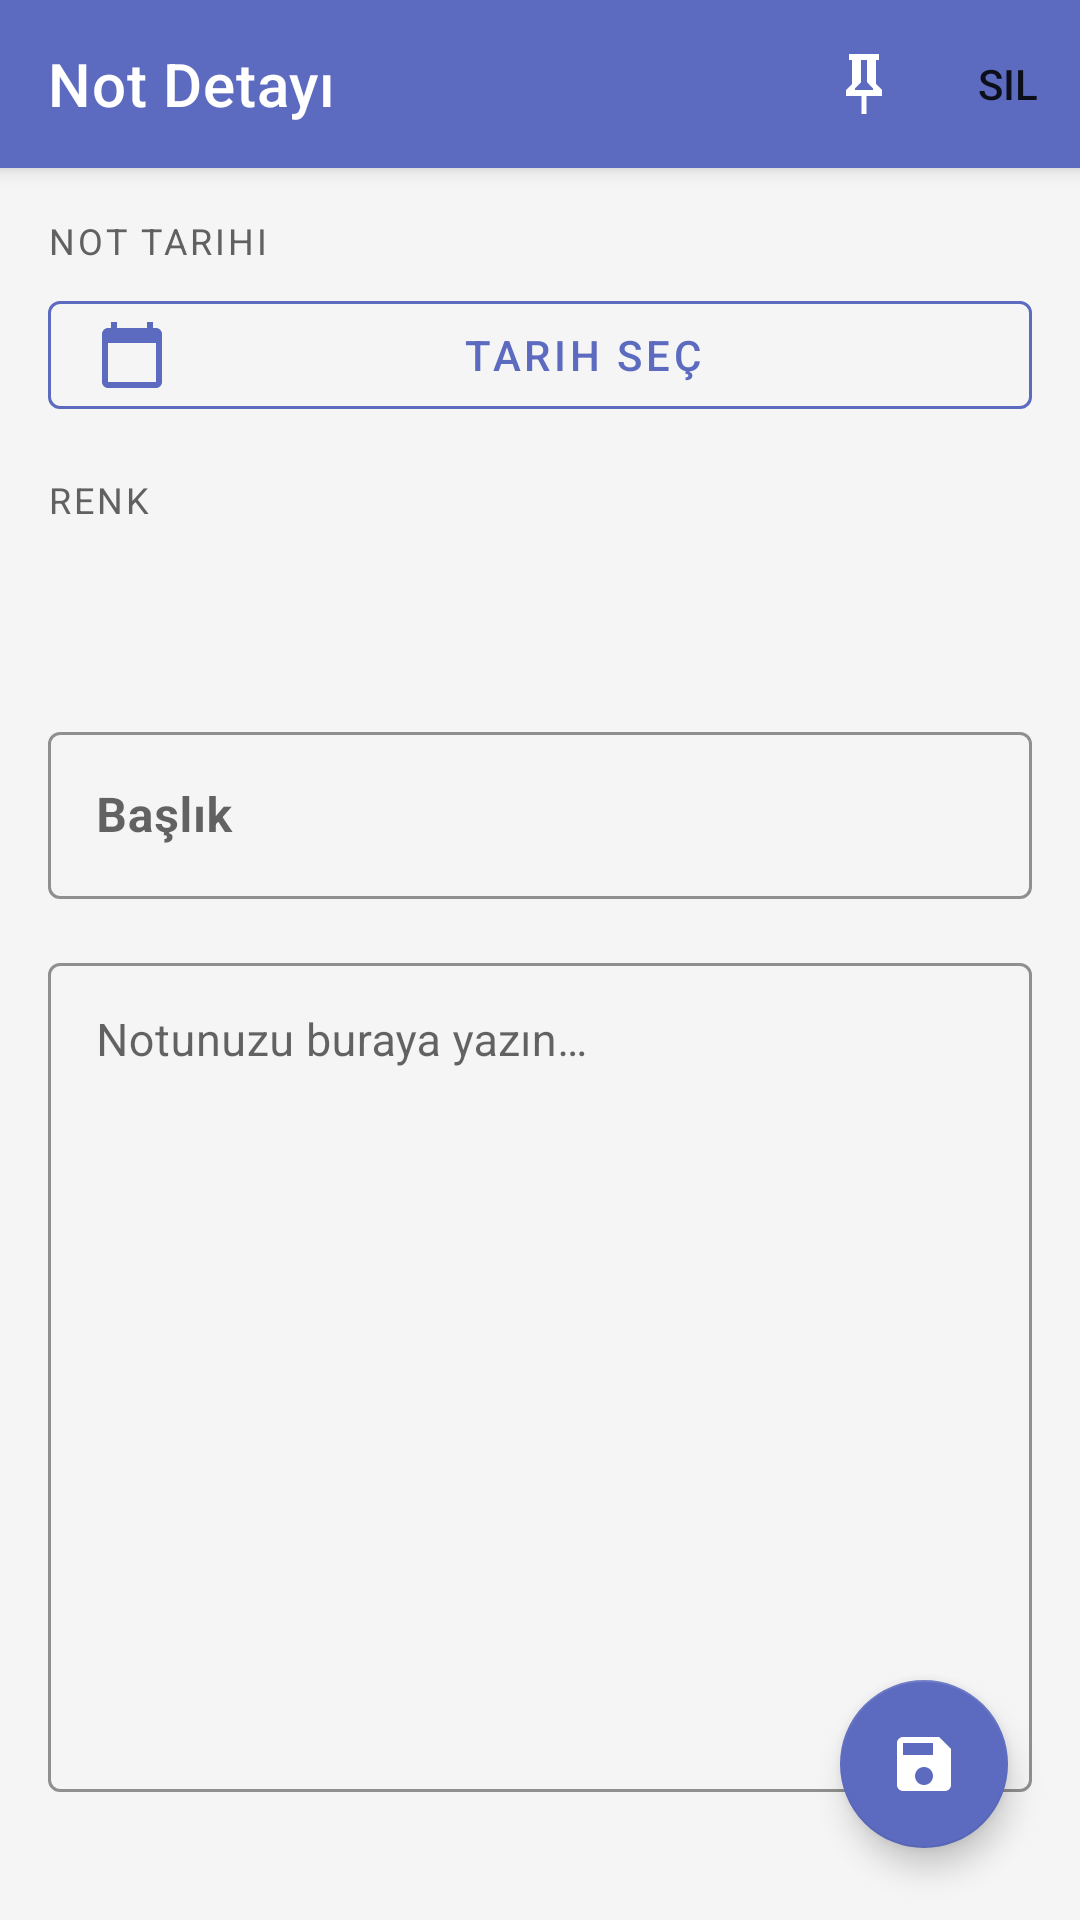

Point at icon controls on the screen. Image size 1080px x 1920px, points as [x,y].
Notu Kaydet: [924,1764]
